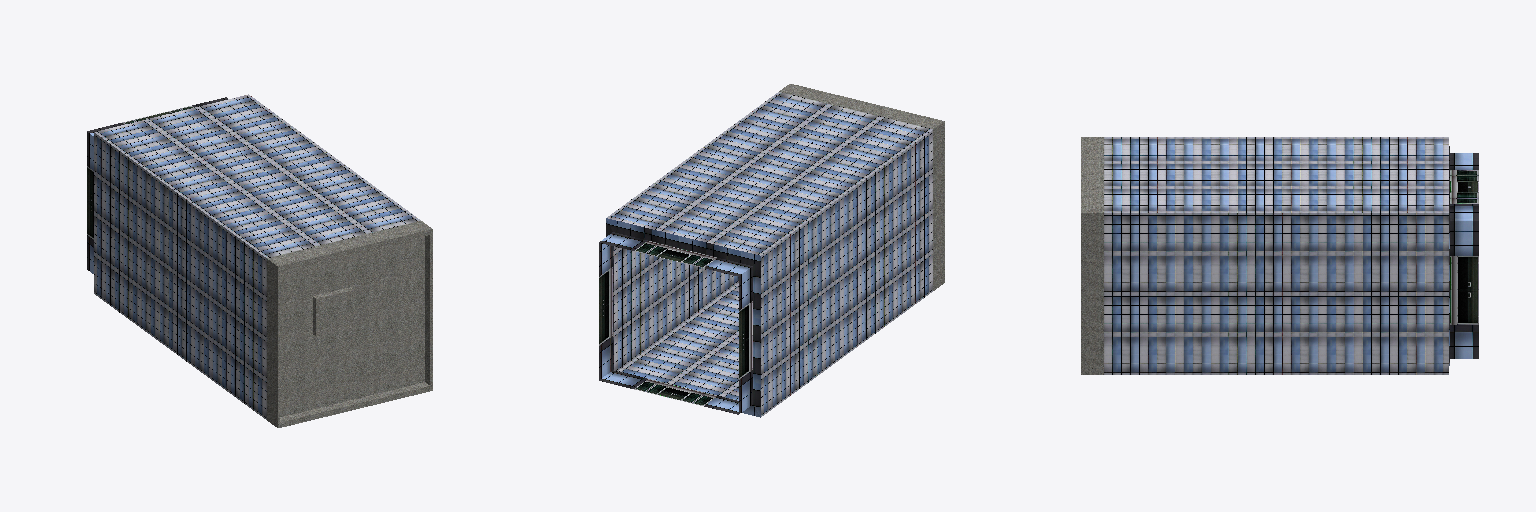
3 views of the same model, side by side, from view 1: azimuth 30°, elevation 25°; view 2: azimuth 150°, elevation 25°; view 3: azimuth 270°, elevation 25° (orthographic).
Visible parts, largest first — view 1: Zone_4x4_SeaWall_C_04; view 2: Zone_4x4_SeaWall_C_04; view 3: Zone_4x4_SeaWall_C_04.
Part boxes in pixels (bbox=[...]): Zone_4x4_SeaWall_C_04: bbox=[87, 94, 432, 427]; Zone_4x4_SeaWall_C_04: bbox=[599, 84, 944, 417]; Zone_4x4_SeaWall_C_04: bbox=[1081, 137, 1478, 374].
Size of the model in its own units: 40 by 40 by 89.04.
Materials: 4 (4 with a texture image).